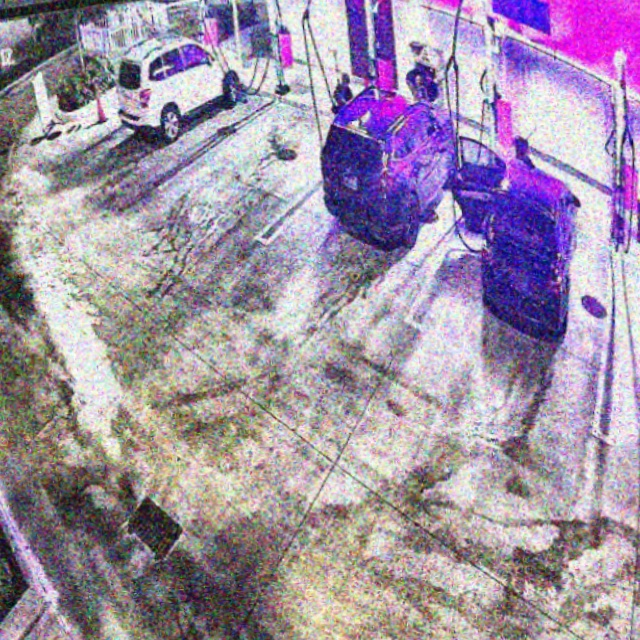Car: (455, 122, 599, 351), (307, 72, 474, 251)
